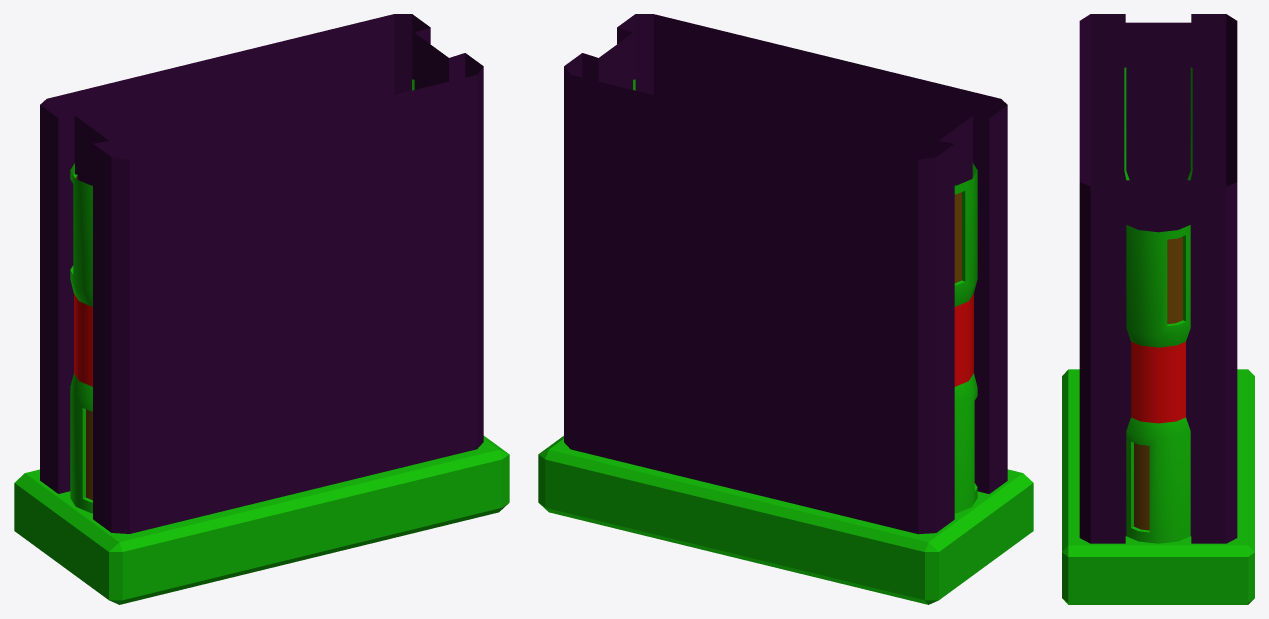
Rendered from OBJ_Pilone_Cube.fbx.
The picture shows the model from 3 angles, left to right: view 1: azimuth 30°, elevation 25°; view 2: azimuth 150°, elevation 25°; view 3: azimuth 270°, elevation 25°; orthographic projection. The views are drawn at different scales.
Parts seen in each view (by area): view 1: OBJ_Pilone_cube; view 2: OBJ_Pilone_cube; view 3: OBJ_Pilone_cube.
Part boxes in pixels (left/top/right/bottom): OBJ_Pilone_cube: left=14, top=14, right=509, bottom=604; OBJ_Pilone_cube: left=538, top=14, right=1033, bottom=604; OBJ_Pilone_cube: left=1062, top=14, right=1254, bottom=604.
Size of the model in its own units: 19.95 by 20.86 by 8.76.
